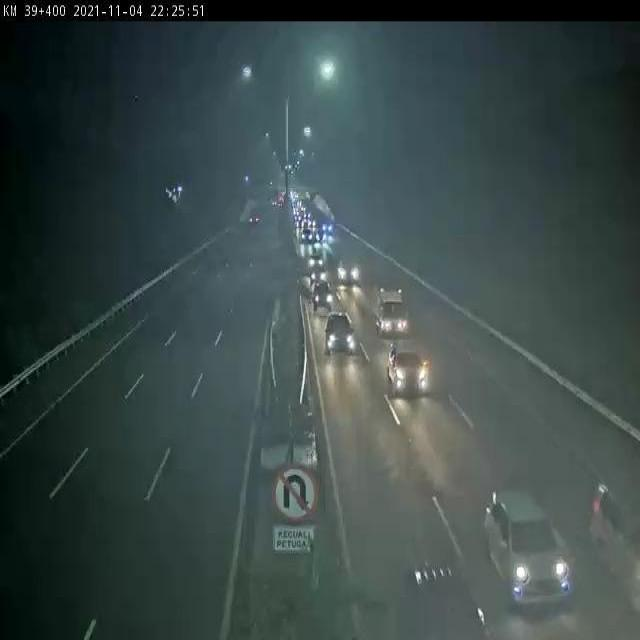car: (482, 486, 575, 598), (388, 337, 429, 395), (322, 311, 351, 353), (335, 255, 360, 285), (311, 279, 333, 309)
truck-s-: (373, 285, 407, 339)
